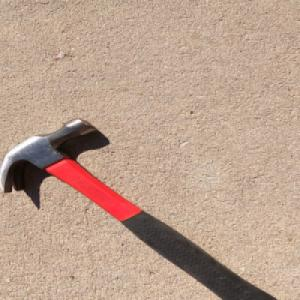Hammer: (0, 115, 278, 300)
